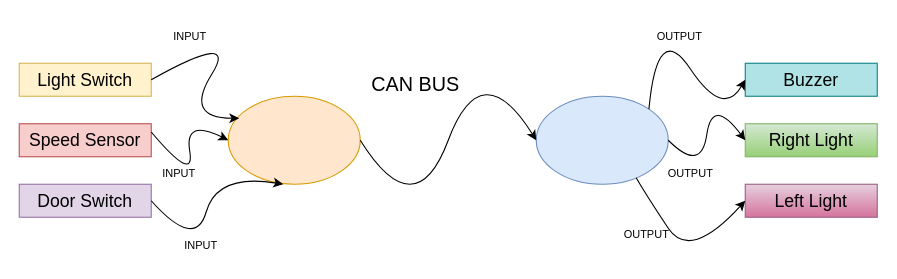
The diagram is 897 pixels wide and 279 high, and some of its shapes have lost their labels. Each missing label, with the box of its shape:
ECU1: (227, 95, 360, 184)
ECU2: (535, 95, 668, 184)
